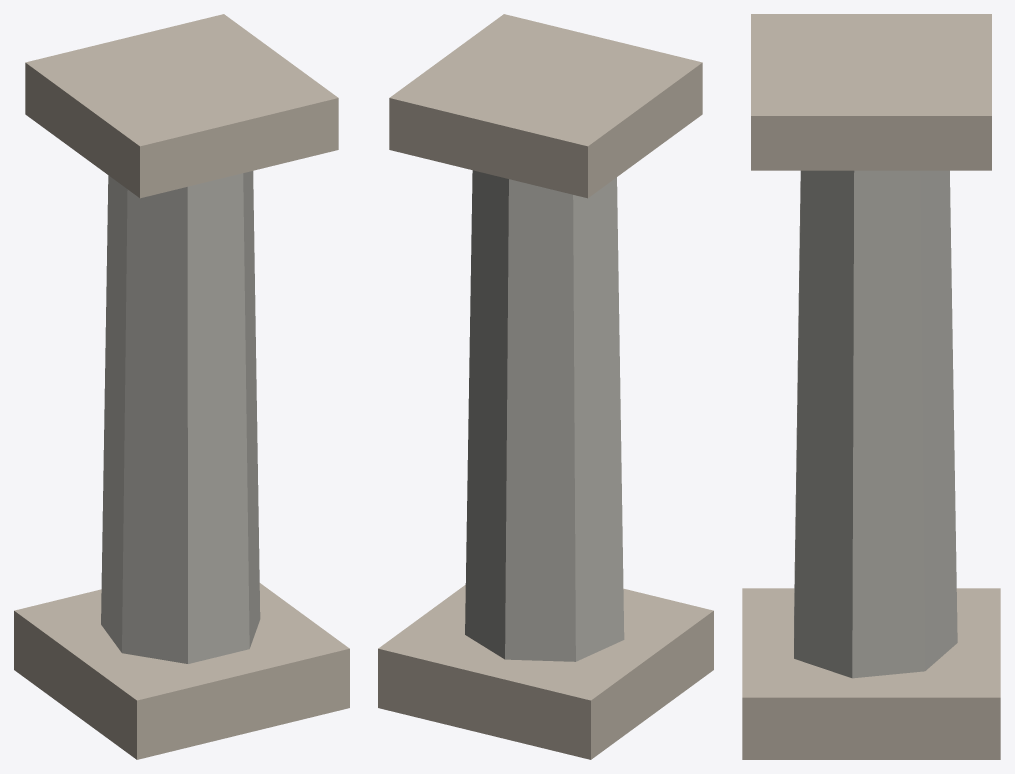
File: column_v25.glb
The picture shows the model from 3 angles, left to right: view 1: azimuth 30°, elevation 25°; view 2: azimuth 150°, elevation 25°; view 3: azimuth 270°, elevation 25°; orthographic projection. The views are drawn at different scales.
Visible parts, largest first — view 1: lod0; view 2: lod0; view 3: lod0.
Part boxes in pixels (box(x1,y1,x2,y2)): lod0: box(14, 14, 349, 759); lod0: box(378, 14, 713, 759); lod0: box(742, 14, 1000, 759).
Size of what is drawn, in the model's own units: 0.6 by 1.64 by 0.6.
